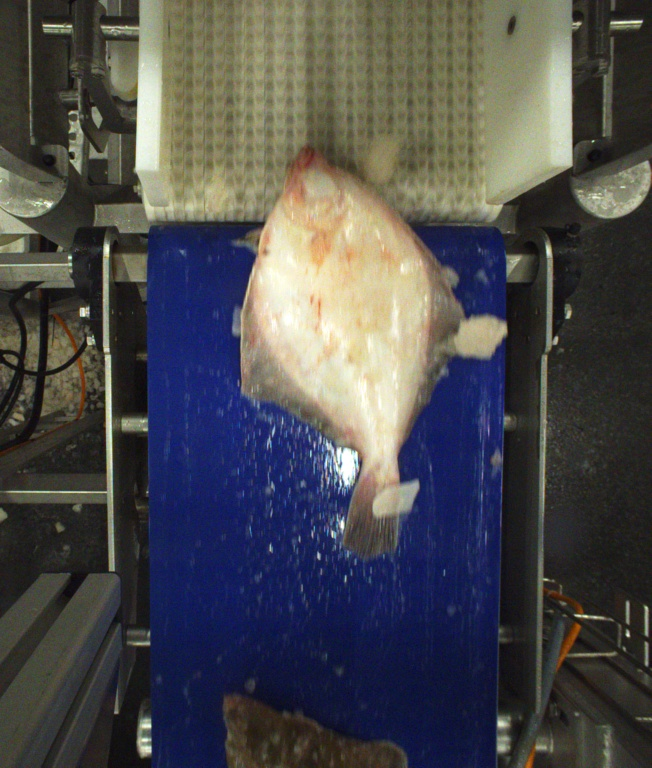PLE: (238, 145, 467, 557)
